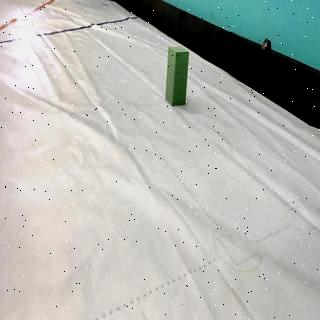greenbox: (166, 44, 190, 108)
